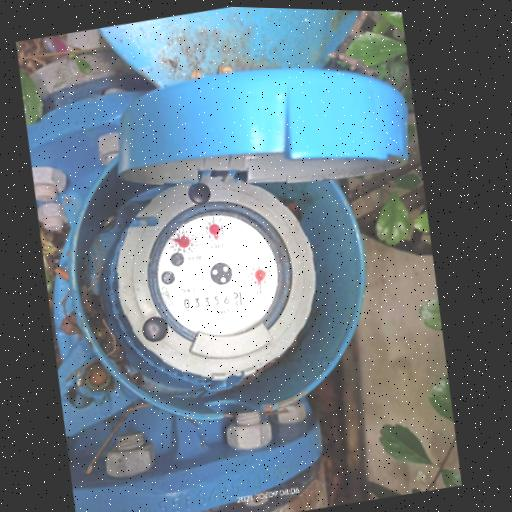0: (182, 298, 195, 313)
3: (202, 294, 215, 310), (192, 296, 205, 311)
5: (210, 293, 224, 310), (231, 291, 243, 307)
6: (221, 292, 234, 308)
border_water_meter_number: (179, 286, 245, 318)
